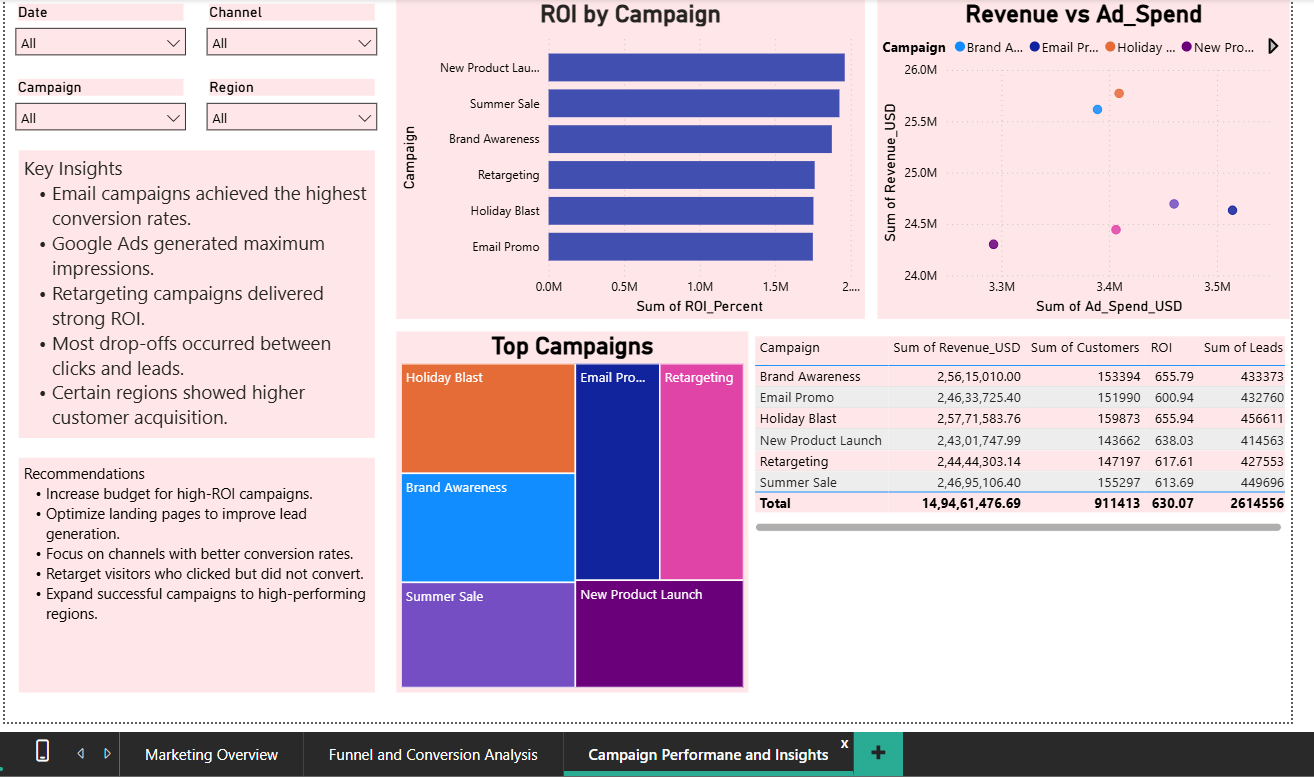

This screenshot's page, from the dashboard's own definition file:
{"tool":"powerbi","page":{"name":"Campaign Performane and Insights","canvas":[1280,720],"ordinal":2},"visuals":[{"type":"slicer","fields":{"Values":["Marketing_Funnel_Data.Date"]},"box":[0,0,190.4,74.9],"z":0},{"type":"slicer","fields":{"Values":["Marketing_Funnel_Data.Channel"]},"box":[190.3,0,190.3,74.6],"z":1},{"type":"slicer","fields":{"Values":["Marketing_Funnel_Data.Campaign"]},"box":[0,74.6,190.3,75.9],"z":2},{"type":"slicer","fields":{"Values":["Marketing_Funnel_Data.Region"]},"box":[190.3,74.6,190.3,74.6],"z":3},{"type":"barChart","title":"ROI by Campaign","fields":{"Category":["Marketing_Funnel_Data.Campaign"],"Y":["Sum(Marketing_Funnel_Data.ROI_Percent)"]},"box":[389.4,0,466.5,318.5],"z":4},{"type":"scatterChart","title":" Revenue vs Ad_Spend","fields":{"X":["Sum(Marketing_Funnel_Data.Ad_Spend_USD)"],"Y":["Sum(Marketing_Funnel_Data.Revenue_USD)"],"Series":["Marketing_Funnel_Data.Campaign"]},"box":[868.5,0,410.7,318.7],"z":5},{"type":"treemap","title":"Top Campaigns","fields":{"Values":["Sum(Marketing_Funnel_Data.Revenue_USD)"],"Details":["Marketing_Funnel_Data.Campaign"]},"box":[389.4,330.9,350.8,359.5],"z":6},{"type":"tableEx","fields":{"Values":["Marketing_Funnel_Data.Campaign","Sum(Marketing_Funnel_Data.Revenue_USD)","Sum(Marketing_Funnel_Data.Customers)","Marketing_Funnel_Data.ROI","Sum(Marketing_Funnel_Data.Leads)"]},"box":[740.2,330.9,538.6,204],"z":7},{"type":"textbox","box":[13.7,150.5,354.5,286.1],"z":8},{"type":"textbox","box":[13.7,456.5,354.5,233.9],"z":9}]}

Visuals, with their boxes on the page's 1280x720 design canvas (x1, y1, x2, y2). These are canvas units, not pixel positions in the 1314x777 screenshot, which may show the page scaled, cropped or inside an application window:
slicer - Marketing_Funnel_Data.Date: [x1=0, y1=0, x2=190, y2=75]
slicer - Marketing_Funnel_Data.Channel: [x1=190, y1=0, x2=381, y2=75]
slicer - Marketing_Funnel_Data.Campaign: [x1=0, y1=75, x2=190, y2=150]
slicer - Marketing_Funnel_Data.Region: [x1=190, y1=75, x2=381, y2=149]
"ROI by Campaign" barChart: [x1=389, y1=0, x2=856, y2=318]
" Revenue vs Ad_Spend" scatterChart: [x1=868, y1=0, x2=1279, y2=319]
"Top Campaigns" treemap: [x1=389, y1=331, x2=740, y2=690]
tableEx - Marketing_Funnel_Data.Campaign x Sum(Marketing_Funnel_Data.Revenue_USD): [x1=740, y1=331, x2=1279, y2=535]
textbox: [x1=14, y1=150, x2=368, y2=437]
textbox: [x1=14, y1=456, x2=368, y2=690]
